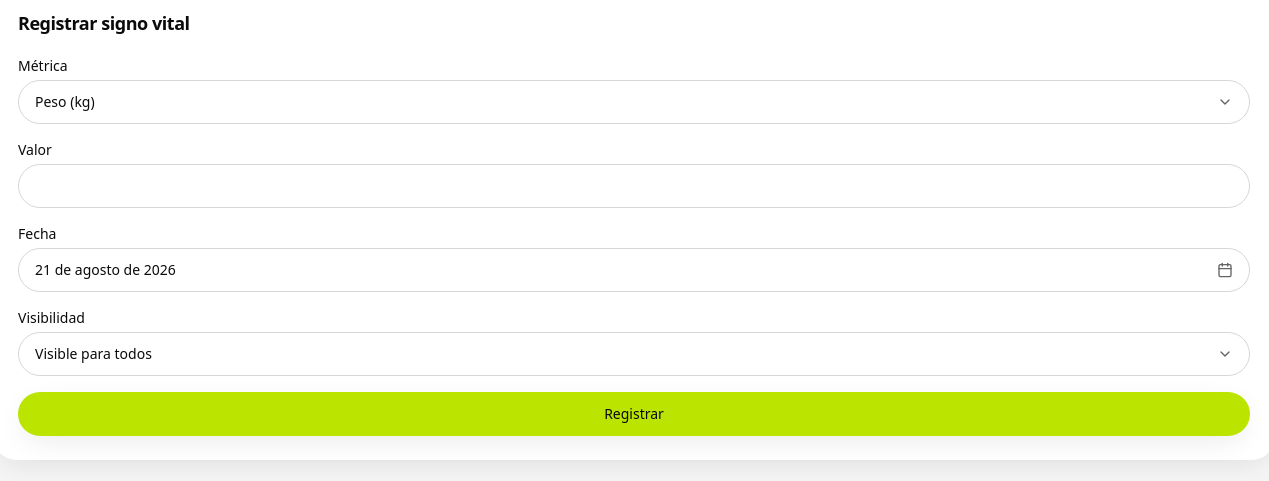
Test: VitalForm — smoke render (nutrition-tracking) › renders the original 5 metrics plus the 14 new body-composition options, each with a unit in parentheses
The image size is (1269, 481).
Click the dropdown named "Métrica": (65, 102) [18, 80, 1250, 124]
(page scrolled)
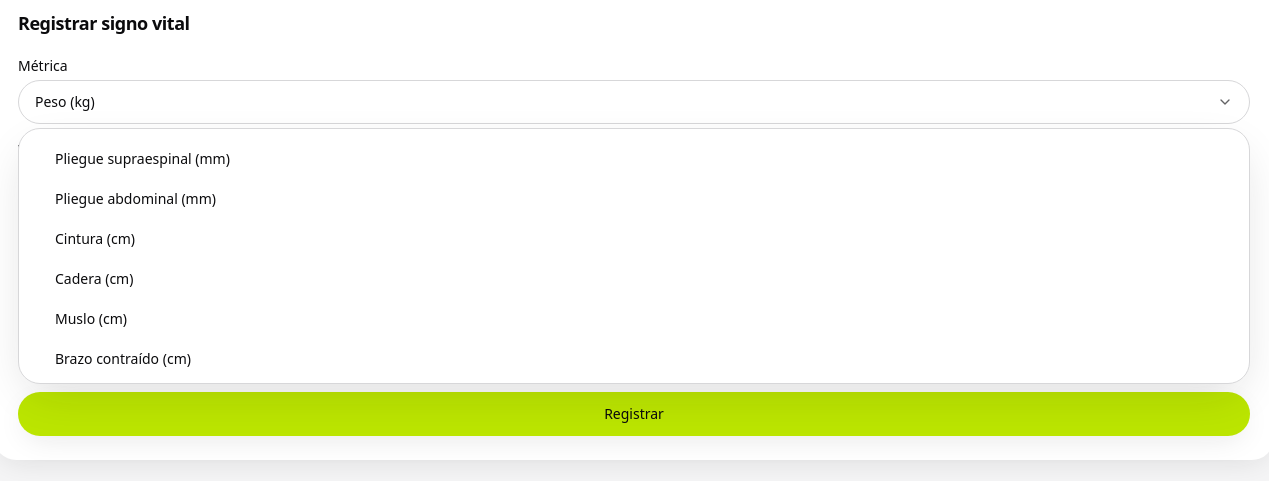
Result: the option "Pliegue supraespinal (mm)" is shown at [55, 149, 230, 168]
Result: the option "Pliegue abdominal (mm)" is shown at [55, 189, 216, 208]
Result: the option "Cintura (cm)" is shown at [55, 229, 135, 248]
